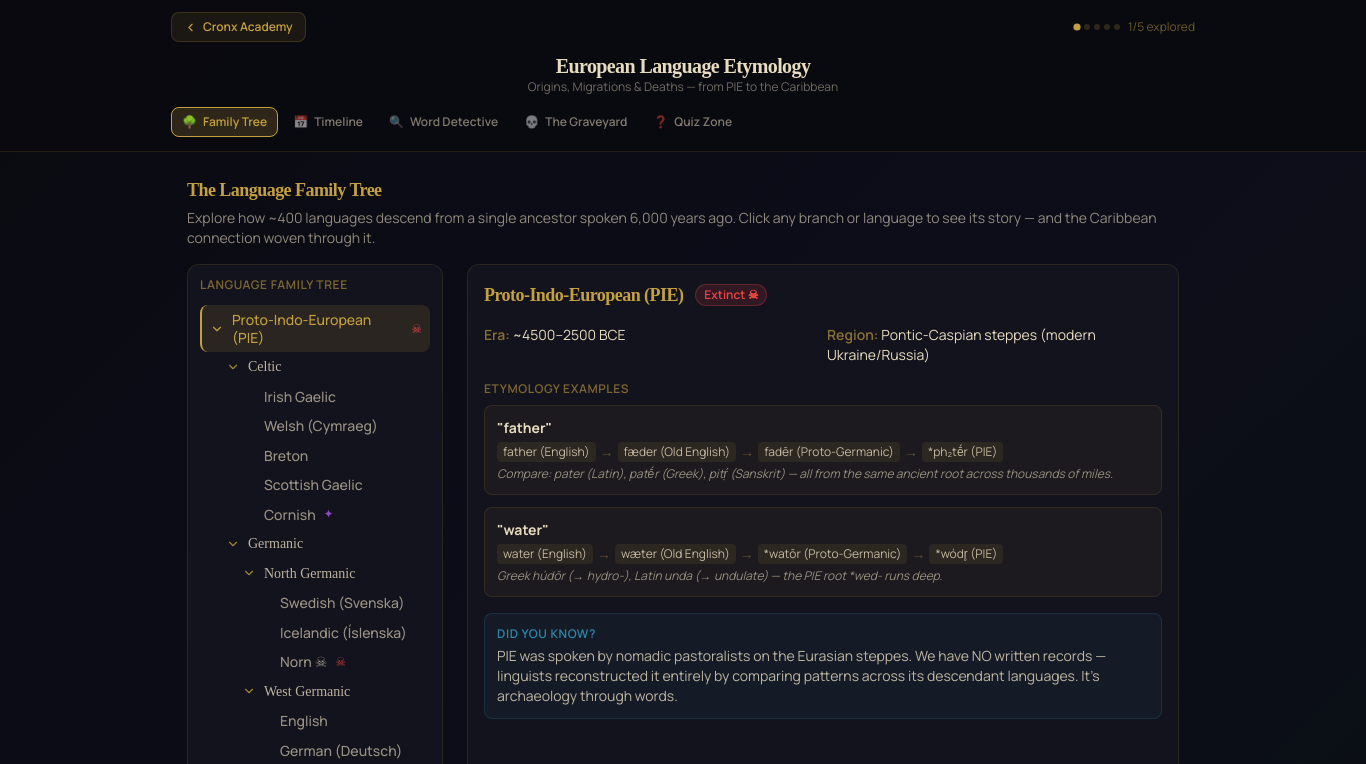
Test: EtymologyInteractive › Section 5: Quiz Zone › shows question labels Q1 and Q15
Click the text "Quiz Zone". click: (703, 122)
box: x1=674 y1=114 x2=732 y2=130
(page scrolled)
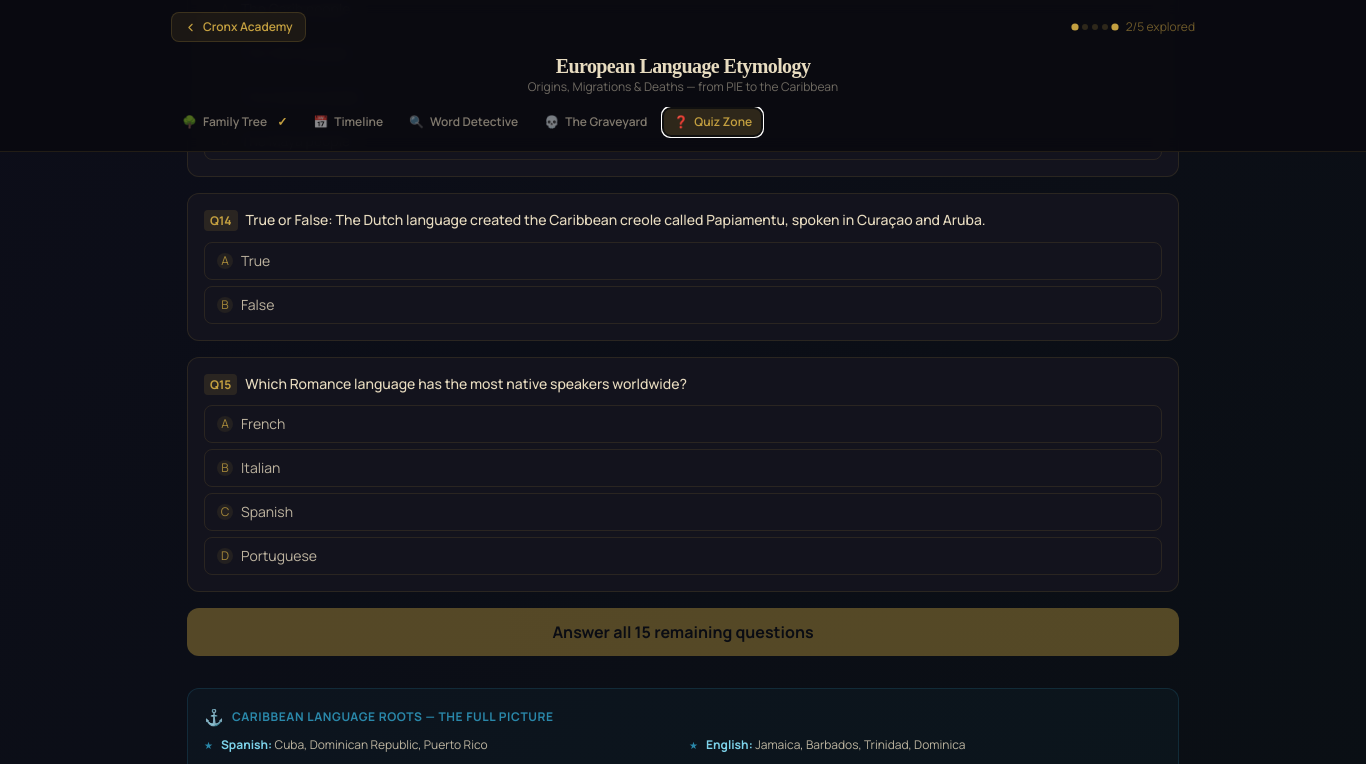
Now the text "Q15" is shown, box x1=204 y1=374 x2=237 y2=394
